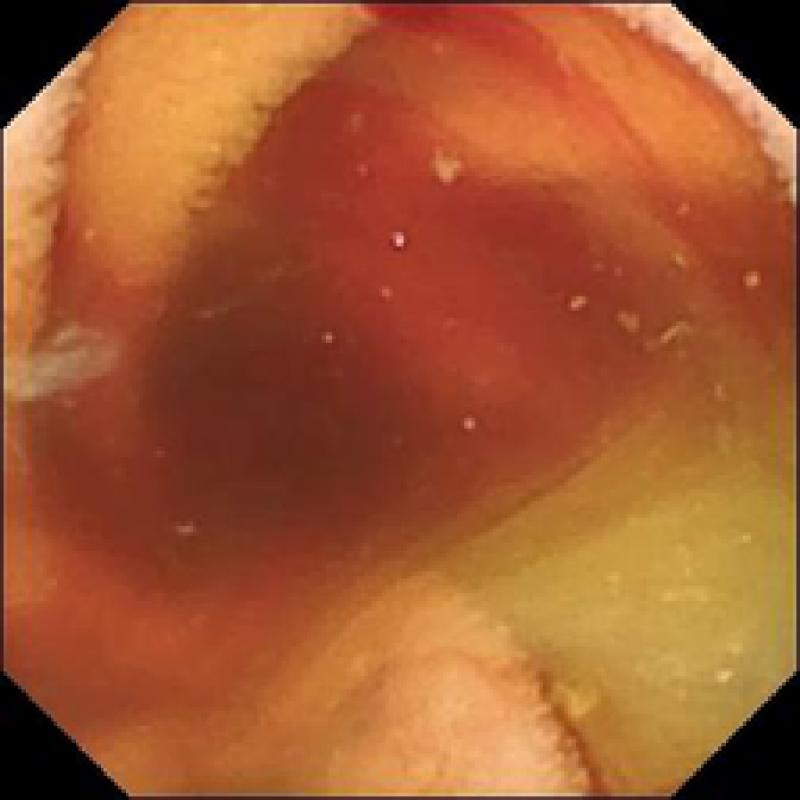bleeding: (0, 0, 786, 668)
